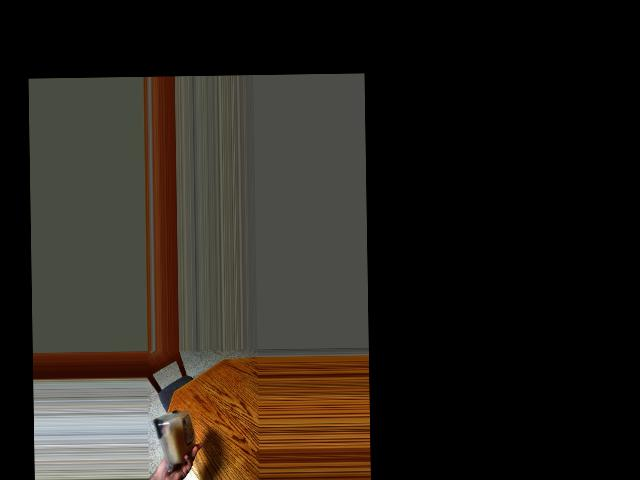cheese: (154, 407, 198, 466)
